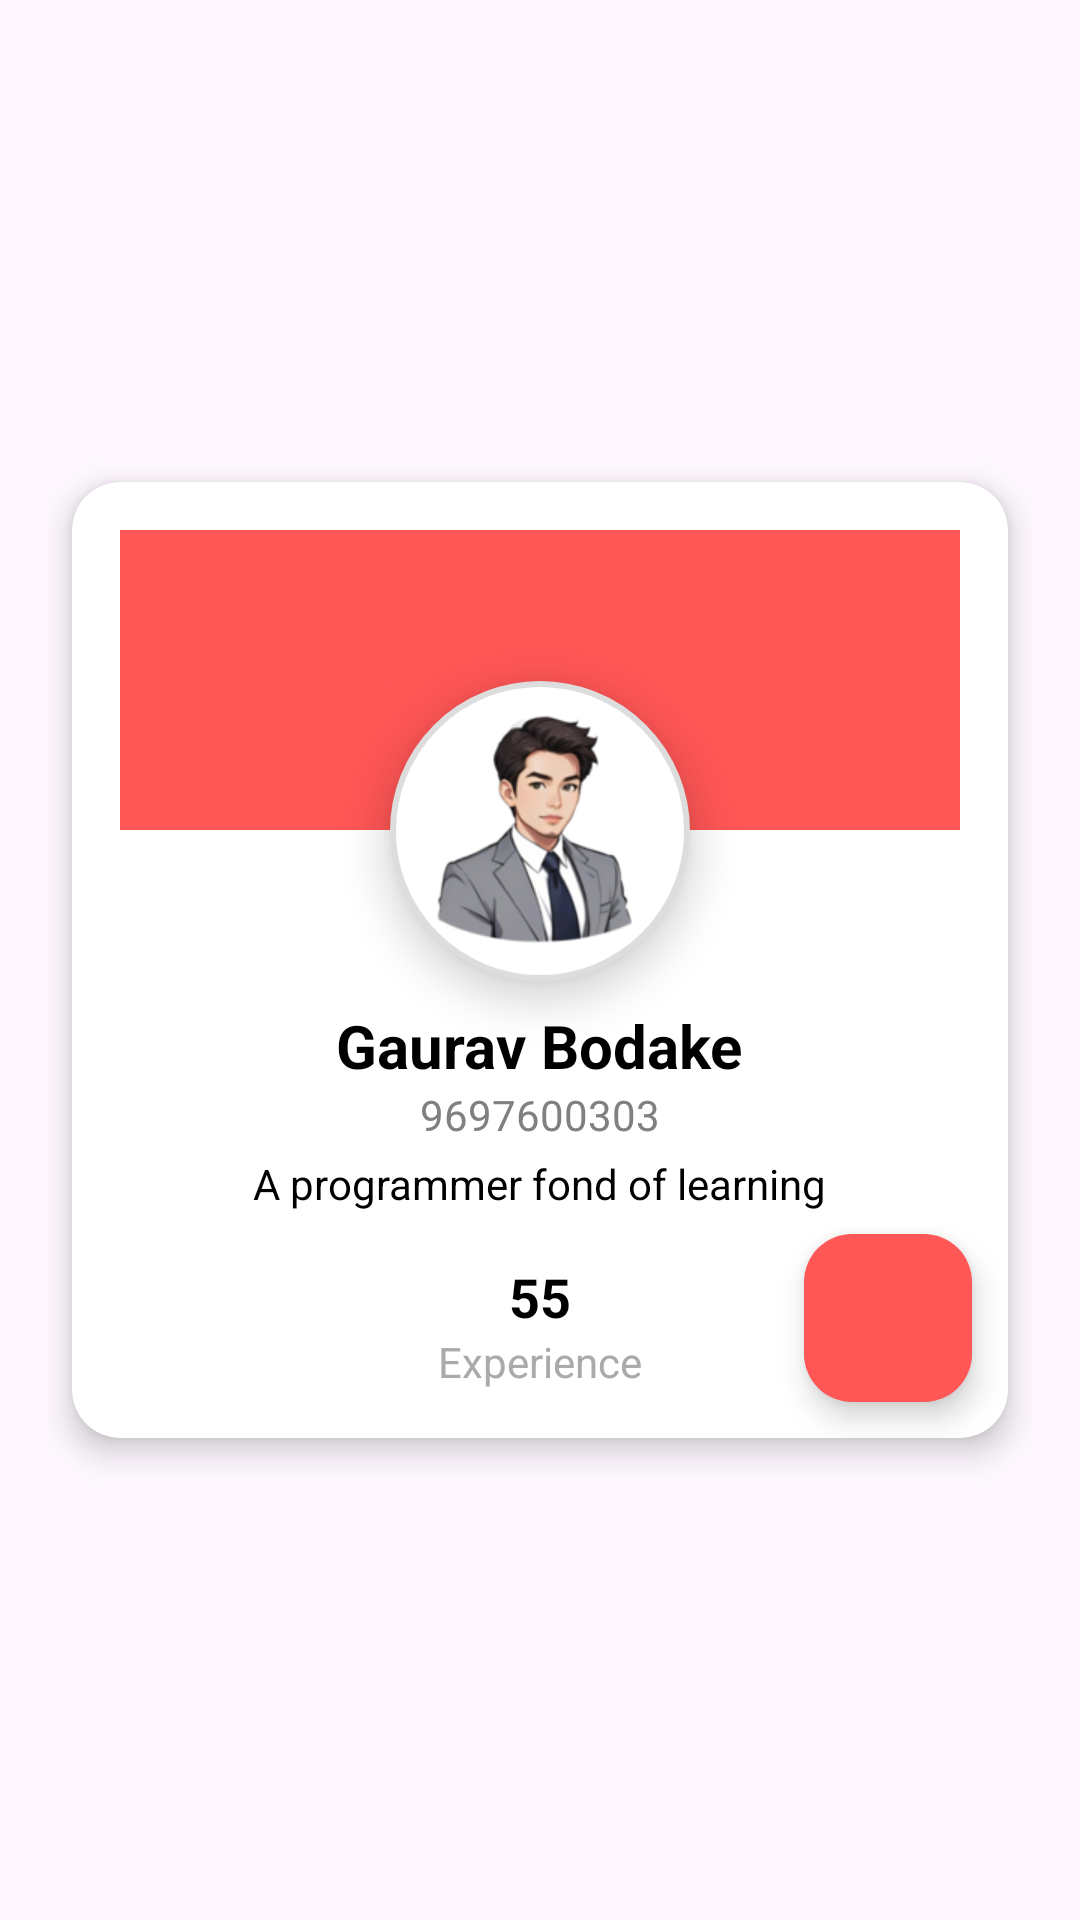

Icon click points for this 1080 × 1920 phone screenshot, format point (x, y):
profile picture: point (540, 831)
